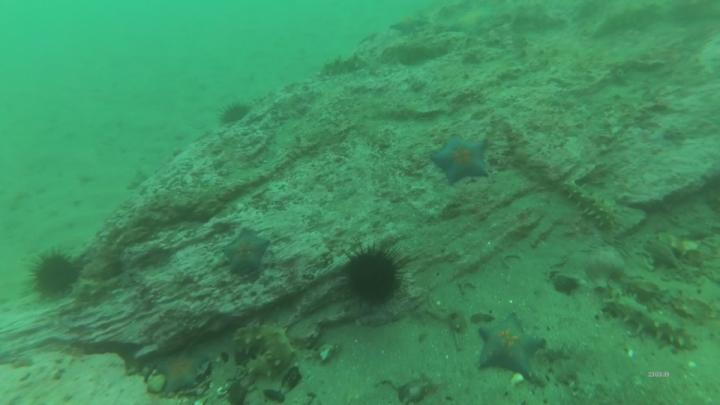echinus: (347, 252, 395, 305), (35, 257, 78, 291), (221, 106, 247, 123)
holothurian: (605, 293, 694, 352), (235, 326, 294, 377), (561, 182, 621, 229), (321, 57, 369, 77)
starfish: (477, 315, 545, 376), (433, 135, 489, 184), (224, 231, 269, 275), (160, 356, 205, 390)
